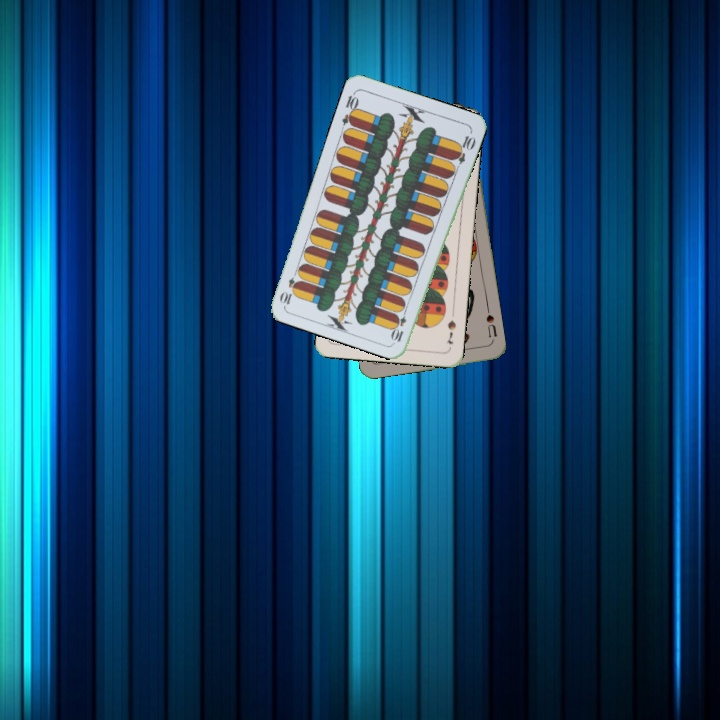E10: (338, 88, 361, 128), (389, 304, 410, 344)
S7: (442, 316, 458, 347)
SU: (482, 310, 499, 345)
